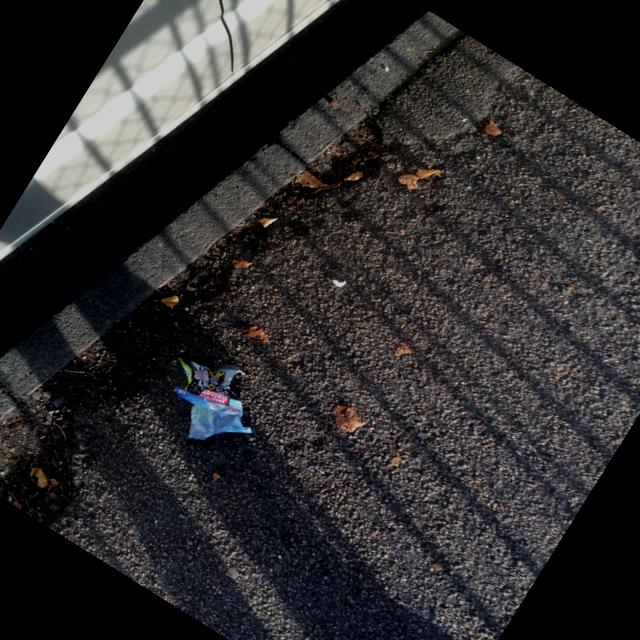Plastic film: (172, 350, 252, 446)
